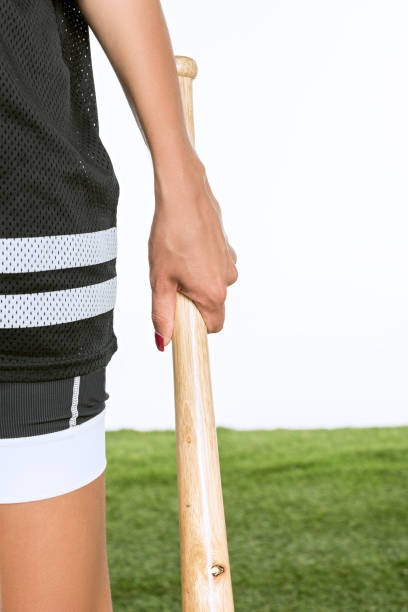bita: (157, 50, 233, 612)
